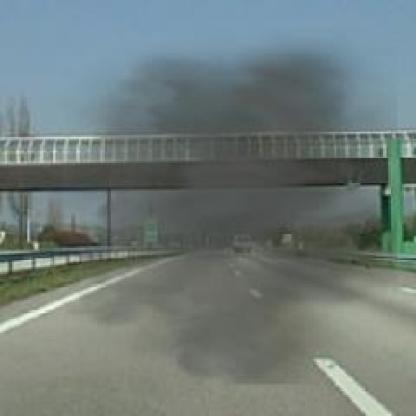Smoke: (32, 28, 398, 385)
